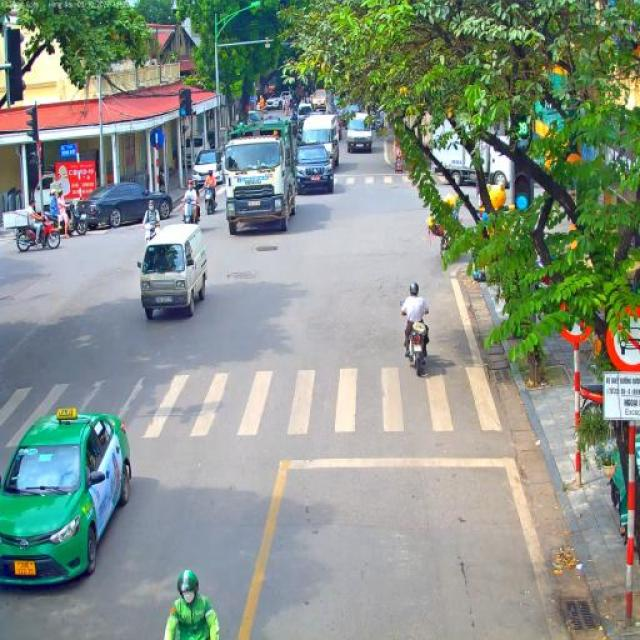bus: (298, 114, 341, 168)
car: (0, 407, 132, 588), (72, 181, 173, 230), (294, 143, 335, 195), (191, 148, 224, 188), (262, 98, 286, 122), (296, 102, 315, 130), (312, 90, 328, 110), (276, 91, 290, 103)
motorcycle: (15, 212, 61, 252), (48, 199, 88, 236), (406, 322, 429, 377), (182, 197, 198, 224), (203, 186, 217, 216), (142, 224, 156, 248), (394, 152, 404, 172), (196, 196, 202, 222), (291, 119, 298, 139)
truck: (218, 120, 296, 235), (137, 222, 208, 320), (432, 120, 513, 192), (347, 112, 372, 153)
